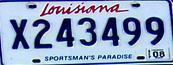placa de veiculo: (3, 1, 171, 63)
